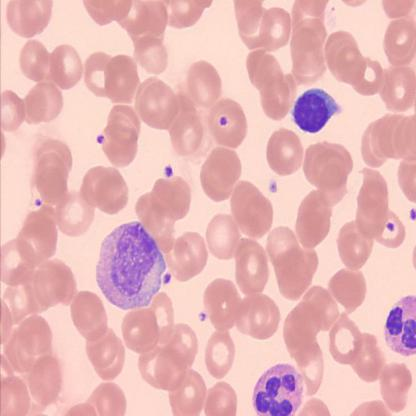Myelocyte: (98, 217, 165, 307), (254, 362, 303, 413)
